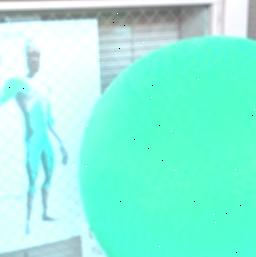algae: (77, 31, 256, 257)
